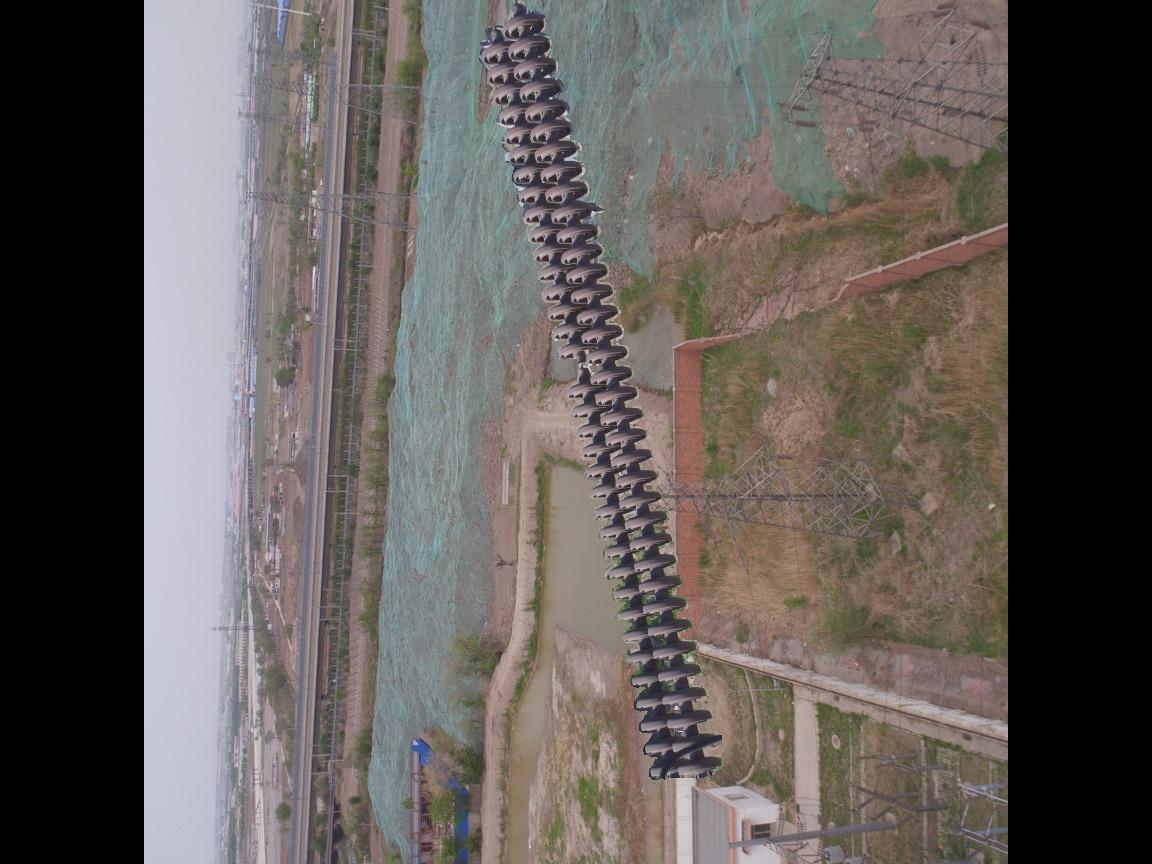insulator: (467, 3, 725, 789)
insulator_stringdrop: (555, 340, 602, 402)
